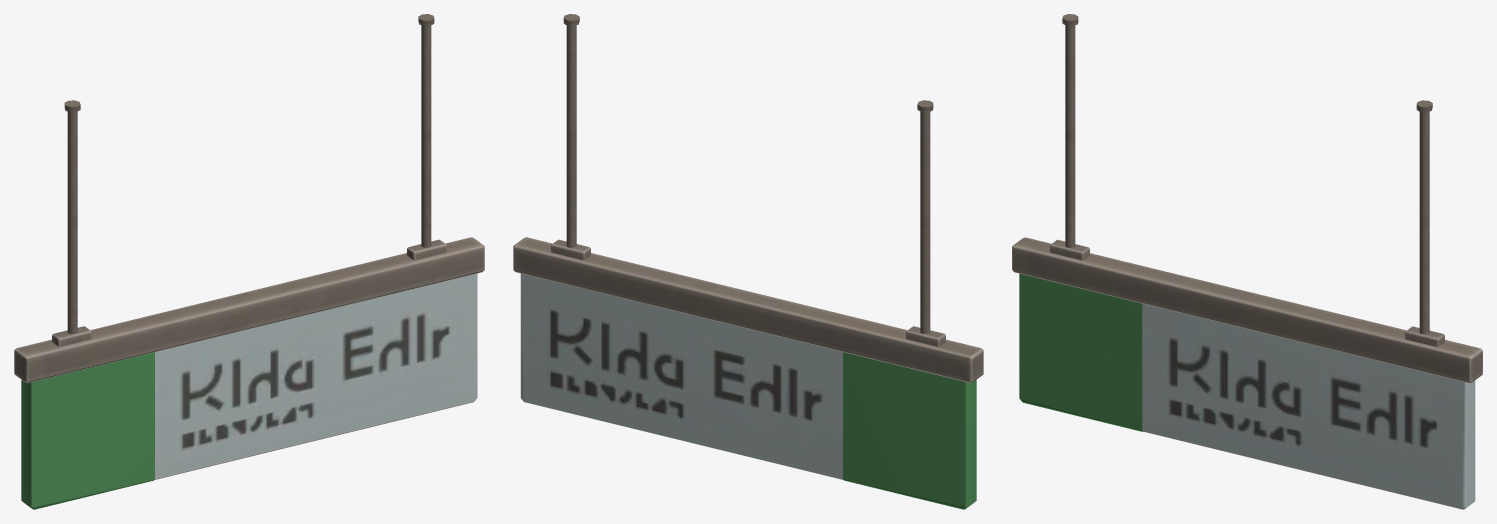
3 renders of one model, left to right at view 1: azimuth 30°, elevation 25°; view 2: azimuth 150°, elevation 25°; view 3: azimuth 330°, elevation 25°, orthographic.
Bounding box in the file's own units: 18.02 × 14.73 × 0.858.
Materials: 2 (2 with a texture image).
